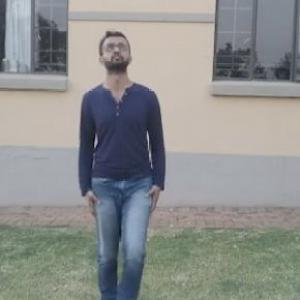follow: (72, 19, 168, 288)
